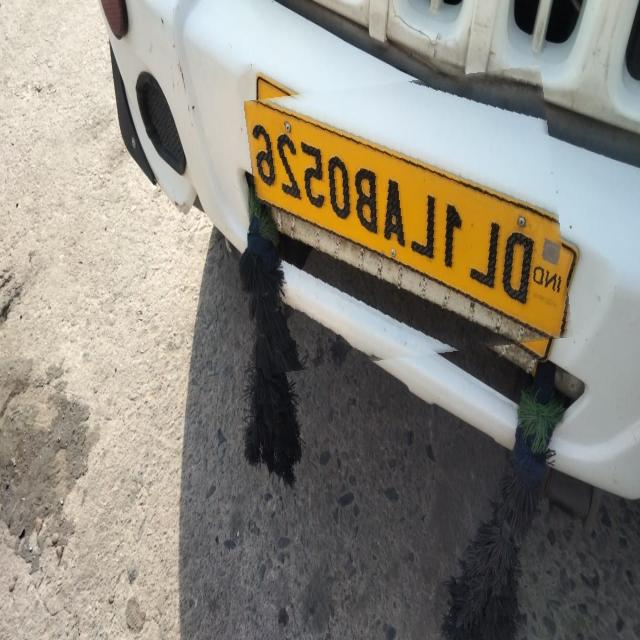License-plate: (253, 100, 558, 340)
